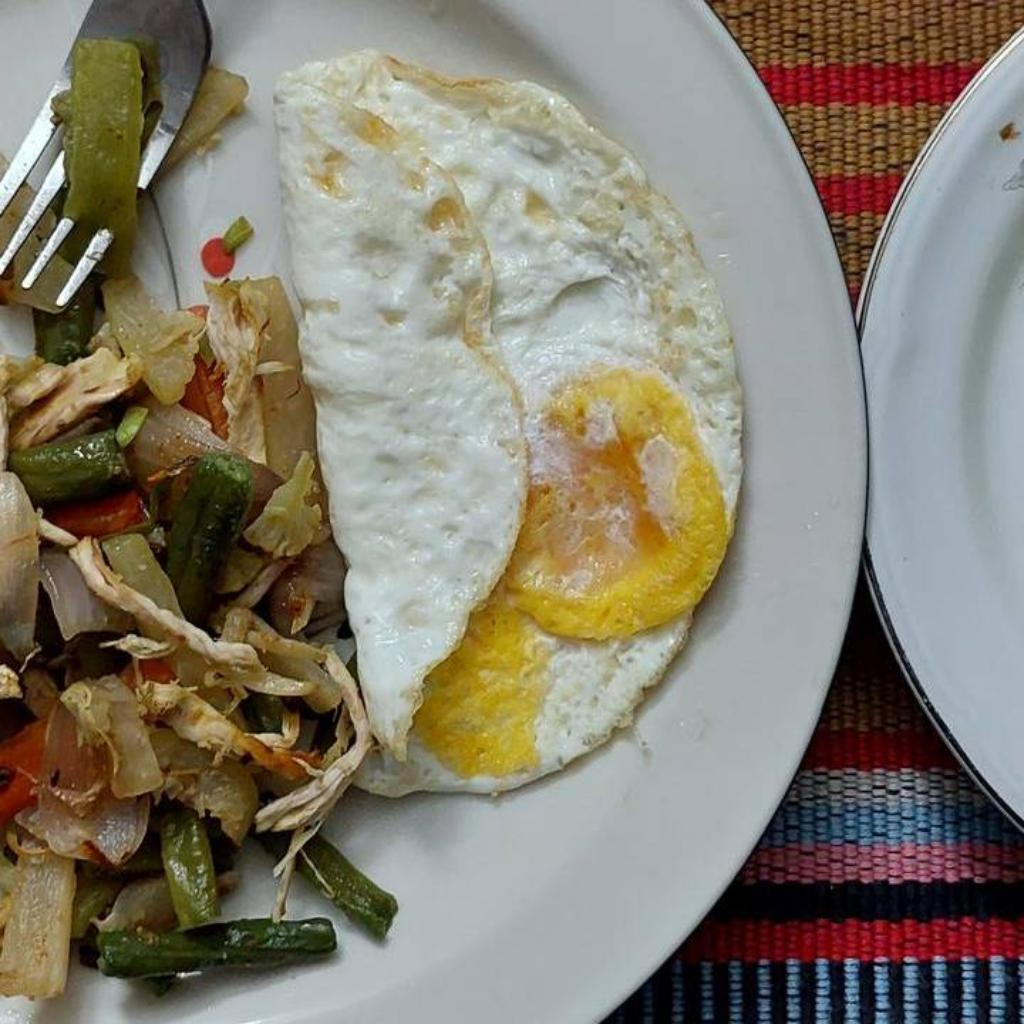egg-poached: (274, 50, 744, 795)
vegetable: (0, 0, 397, 998)
